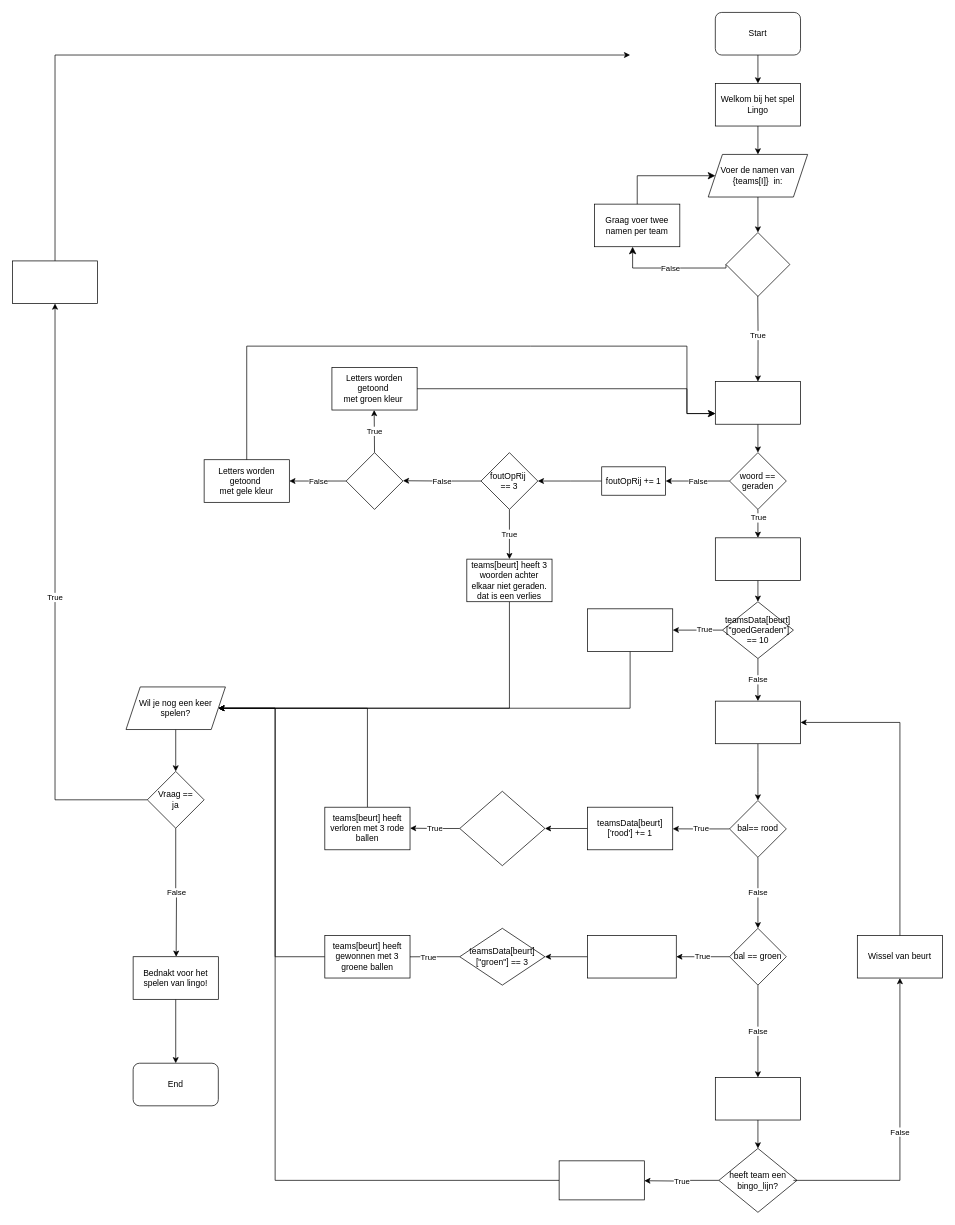
The diagram is 955 pixels wide and 1225 high, and some of its shapes have lost their labels. The shapes that lost their labels are listed below. From the top down, each one's centre as x and y in pixels, then its label:
(55,282): Data wordt gereset
(757,264): 2 spelers per team?
(758,402): teams[beurt] start zijn 5 pogingen per woord
(374,480): letters[i] == woord[i]
(758,558): goedGeraden += 1
(630,629): Teams[beurt] heeft gewonnen met 10 woorden raden
(758,722): Teams[beurt] mag 2 ballen pakken van de ballenbak
(502,828): teamsData[beurt] ["rood"] == 3
(631,956): teamsData[beurt] ['groen'] +=1
(758,1098): markeer het nummer op de bingokaart
(601,1180): teams[beurt] heeft gewonnen met een bingo lijn.
